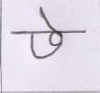e_matra: (39, 6, 59, 30)
